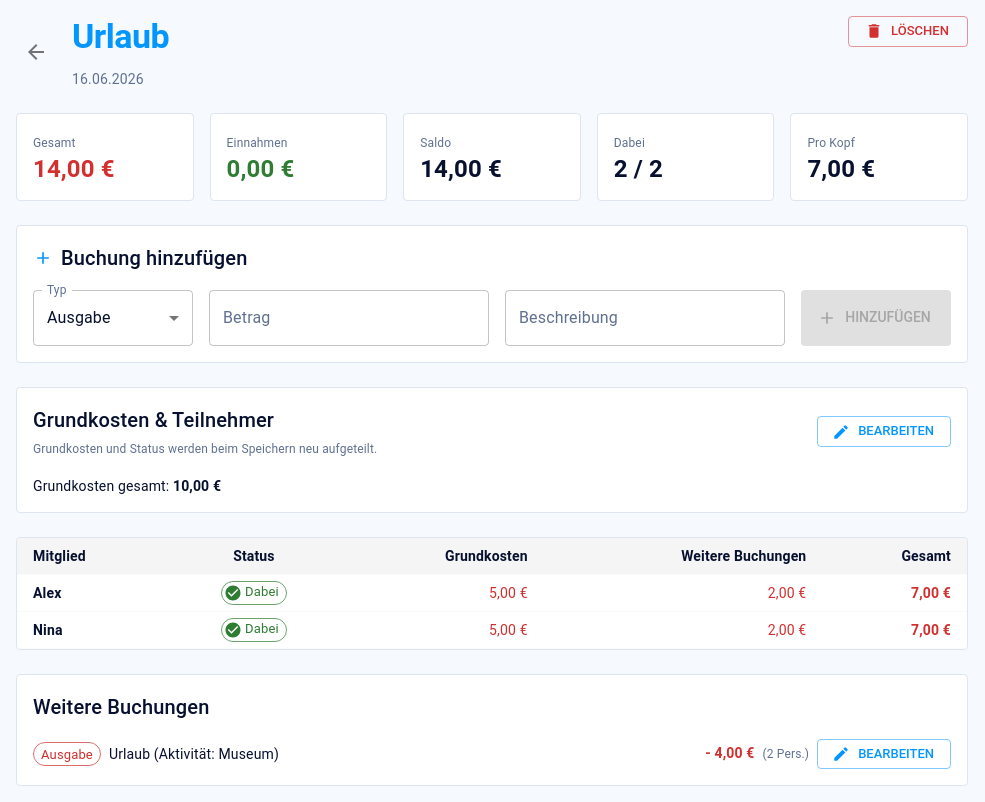
TripDetailsPage trip setup › keeps trip setup editing active after a conflict
Click the button "Bearbeiten" in the row of "Grundkosten & Teilnehmer".
click(884, 432)  # box left=817, top=416, right=951, bottom=447
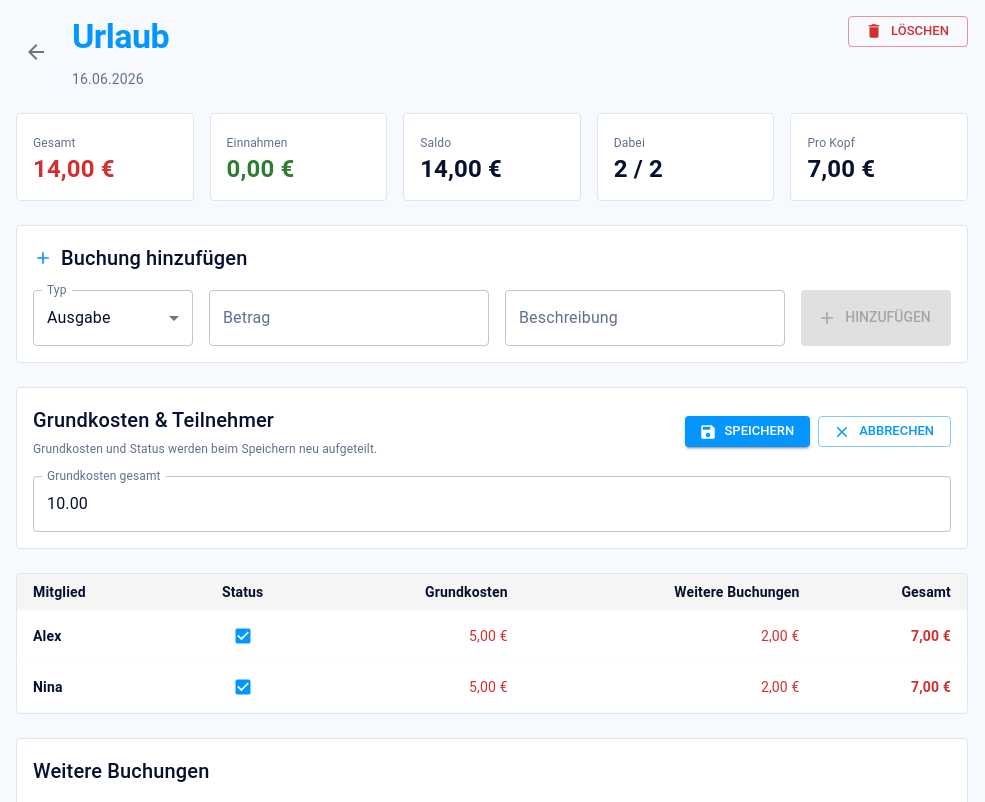
Click the button "Speichern".
click(747, 432)  # box left=684, top=416, right=810, bottom=447
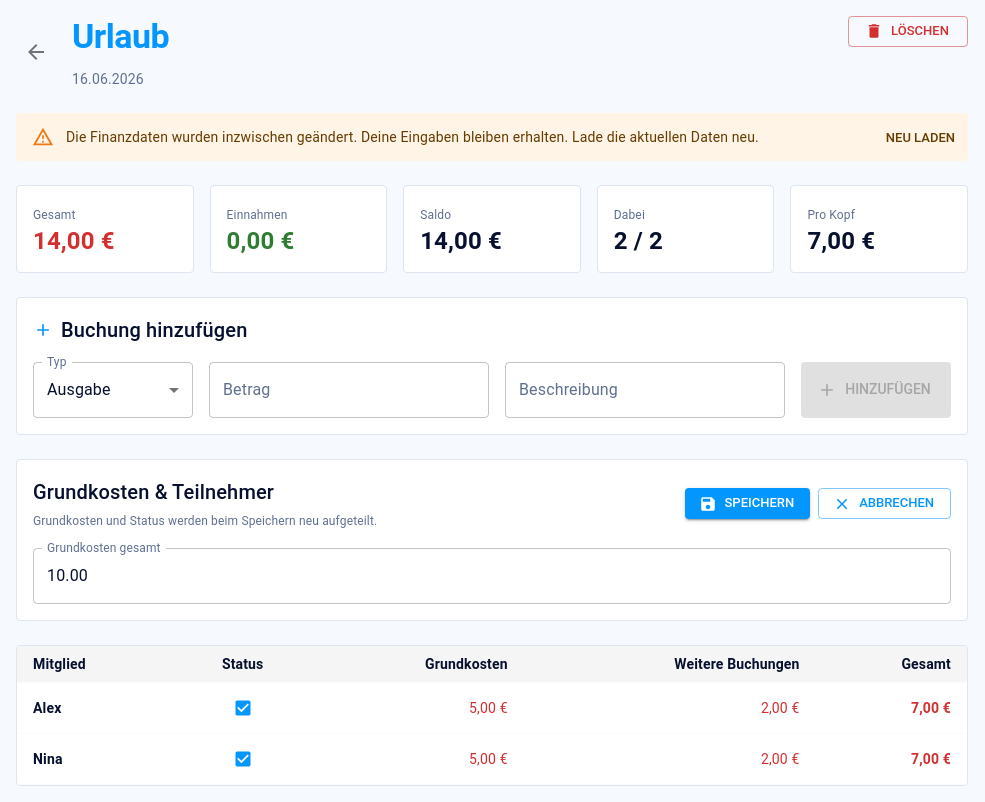
Now the number field labelled "Grundkosten gesamt" holds "10", box left=33, top=548, right=951, bottom=604
Now the text "Die Finanzdaten wurden inzwischen geändert" is shown, box left=66, top=129, right=759, bottom=145
